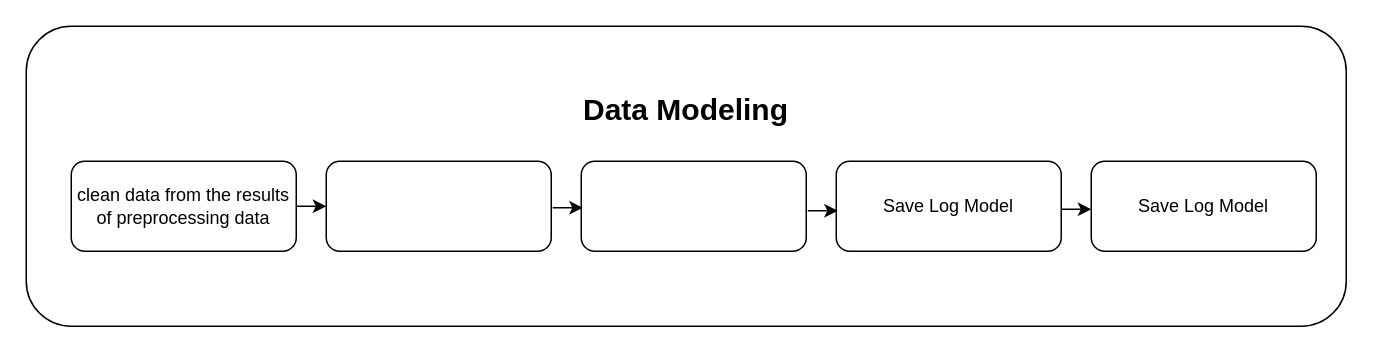
Image size: 1373x353. Some labels were removed from this diagram. Each missing label, with the centre of its shape:
"Evaluation Metrics" belongs at point (693, 205).
"Extratrees Classifier Fitting" belongs at point (438, 205).
